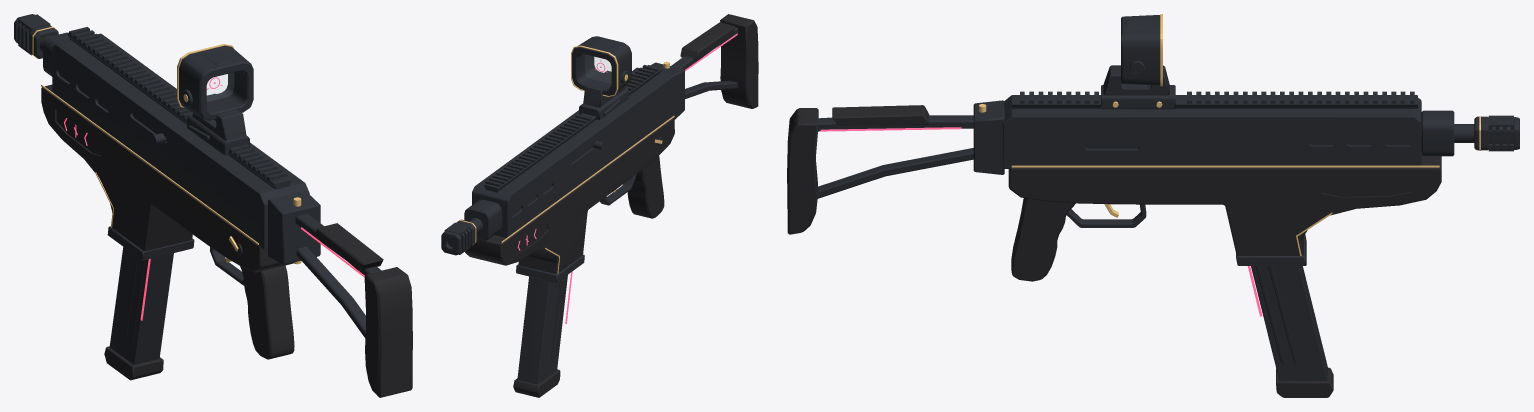
Rendered from weapon_kriss.glb.
The picture shows the model from 3 angles, left to right: view 1: azimuth 30°, elevation 25°; view 2: azimuth 150°, elevation 25°; view 3: azimuth 270°, elevation 25°; orthographic projection. The views are drawn at different scales.
Visible parts, largest first — view 1: kriss_metal, kriss_polymer, kriss_gold, kriss_glow, kriss_glass; view 2: kriss_metal, kriss_polymer, kriss_gold, kriss_glass, kriss_glow; view 3: kriss_metal, kriss_polymer, kriss_gold.
Boxes of the visible parts, x1,y1,x2,y2 form: kriss_metal: (14,14,381,364); kriss_polymer: (41,84,412,397); kriss_gold: (32,26,301,264); kriss_glow: (64,77,364,320); kriss_glass: (207,73,233,101); kriss_metal: (441,27,738,384); kriss_polymer: (465,14,758,397); kriss_gold: (456,45,674,273); kriss_glass: (585,55,610,82); kriss_glow: (518,33,737,323); kriss_metal: (817,15,1519,380); kriss_polymer: (787,83,1441,397); kriss_gold: (979,14,1480,255).
Size of the model in its own units: 0.0775 by 0.446 by 0.8047.
